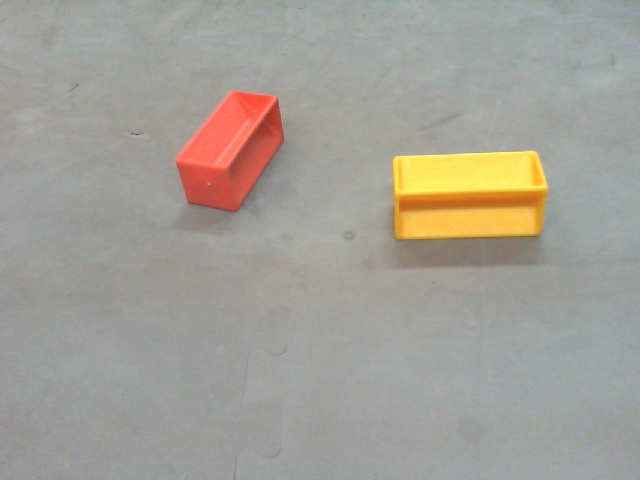RedSample: (175, 90, 284, 212)
YellowSample: (389, 149, 552, 243)
